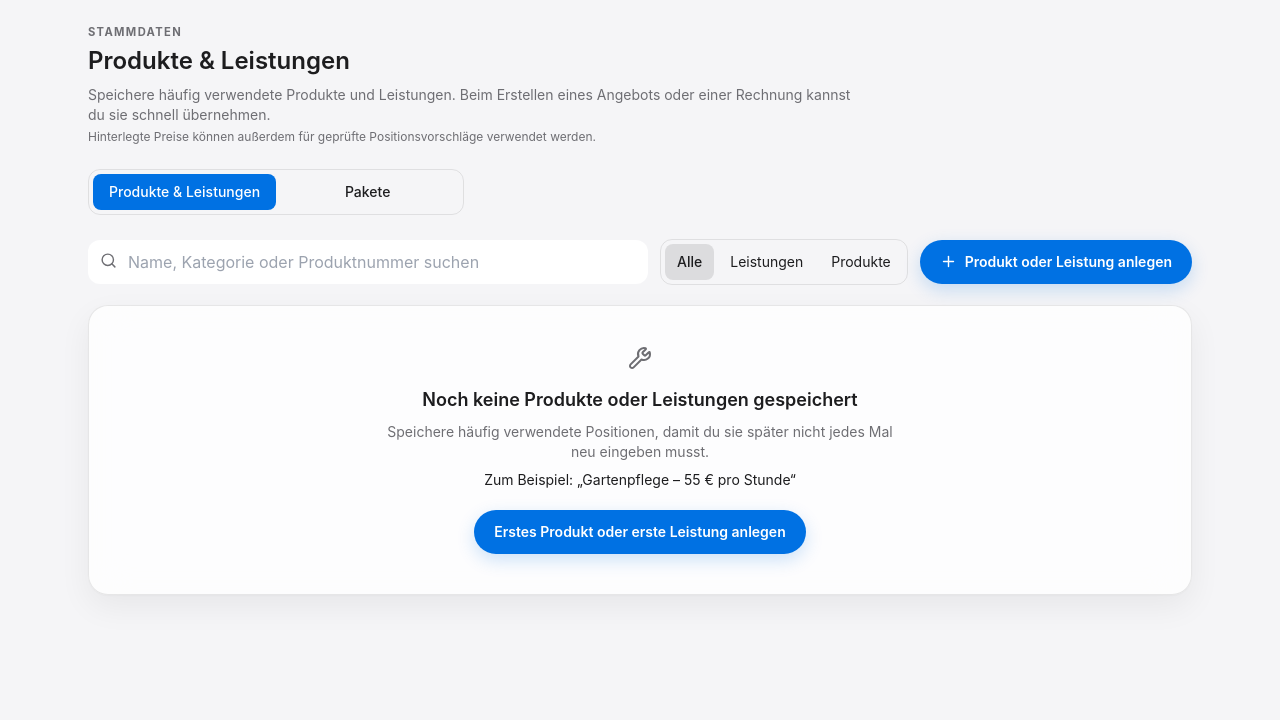
PositionCatalogPage › wechselt zum Paket-Tab und öffnet den Paketdialog
This screenshot has width=1280, height=720.
Step 1. Click the tab "Pakete" → (368, 192), box x1=276 y1=174 x2=459 y2=210
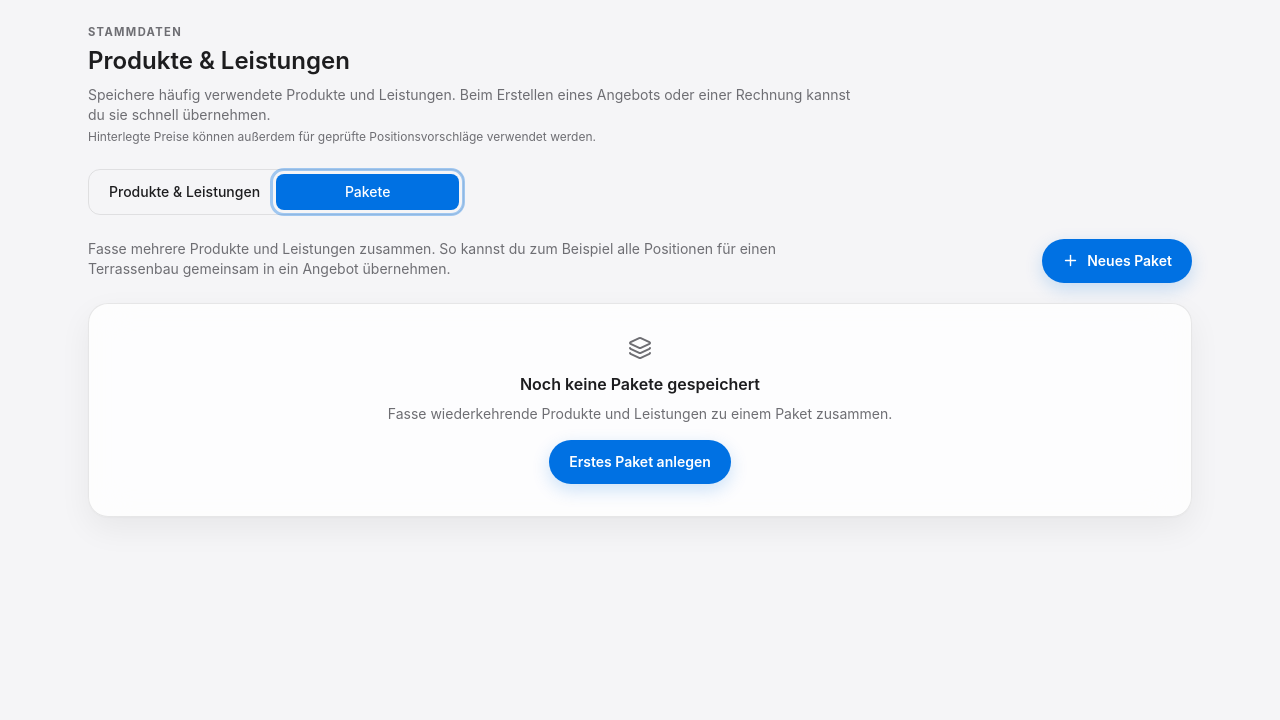
Result: the heading "Noch keine Pakete gespeichert" is shown at x1=520 y1=374 x2=760 y2=394
Step 2. Click the button "Neues Paket" → (1117, 261), box x1=1042 y1=239 x2=1192 y2=283
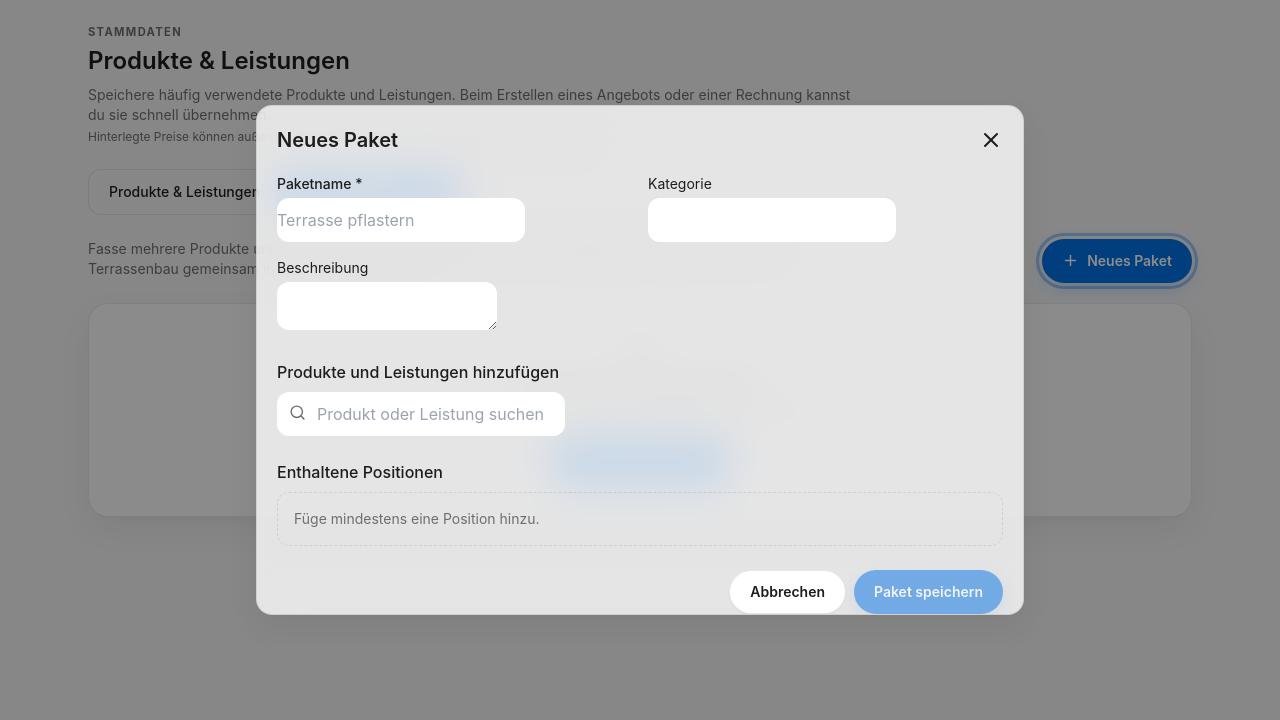
Result: the dialog "Neues Paket" is shown at x1=256 y1=105 x2=1024 y2=615
